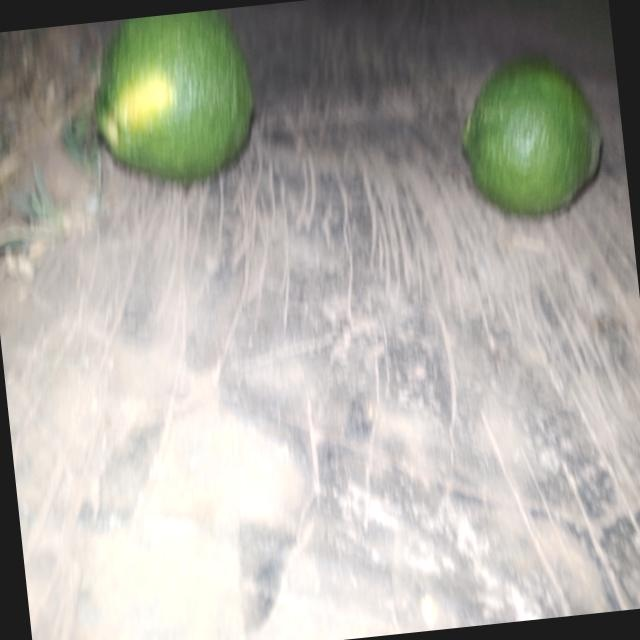agrume: (427, 35, 617, 245), (82, 8, 270, 211)
